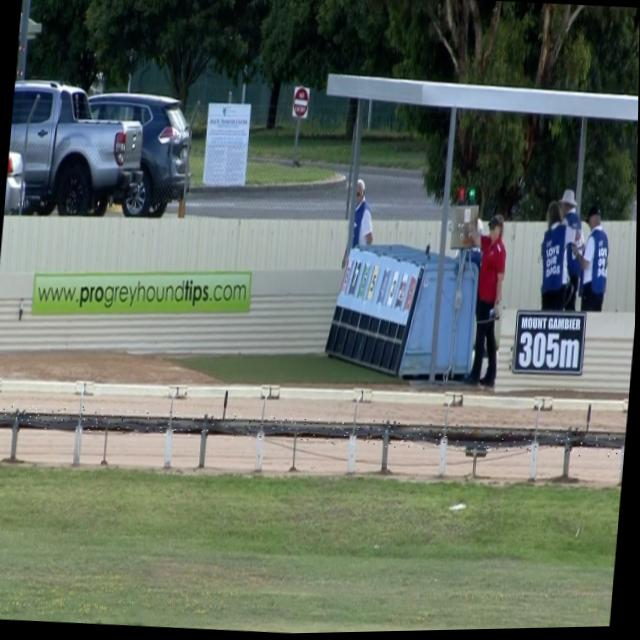rail: (0, 413, 627, 453)
